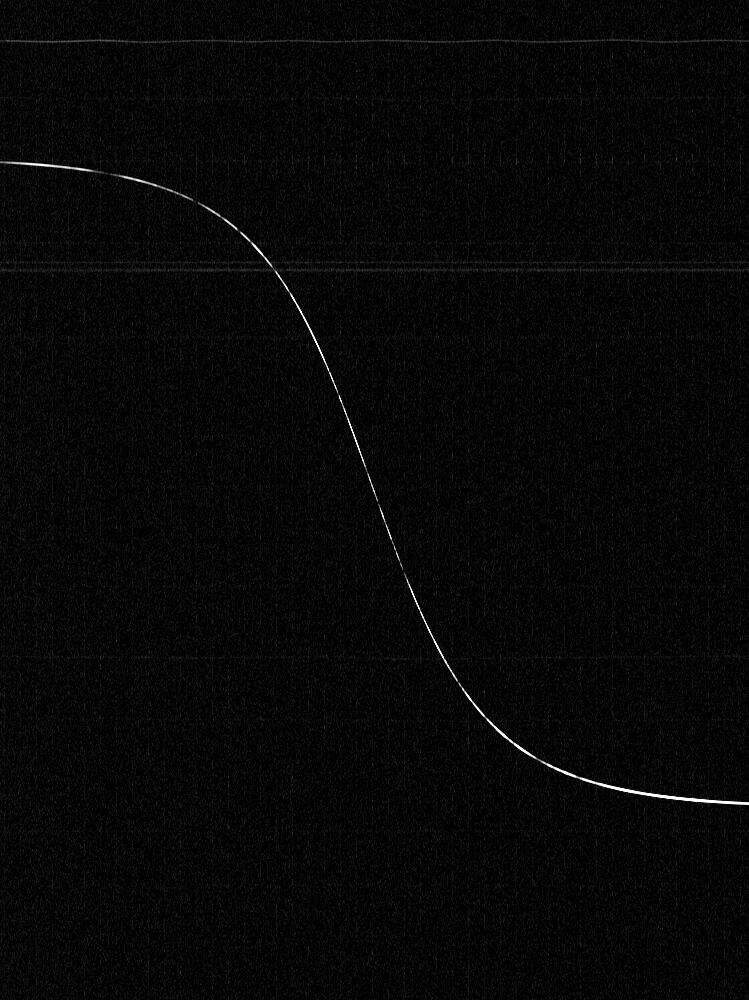signal: (0, 0, 748, 999)
